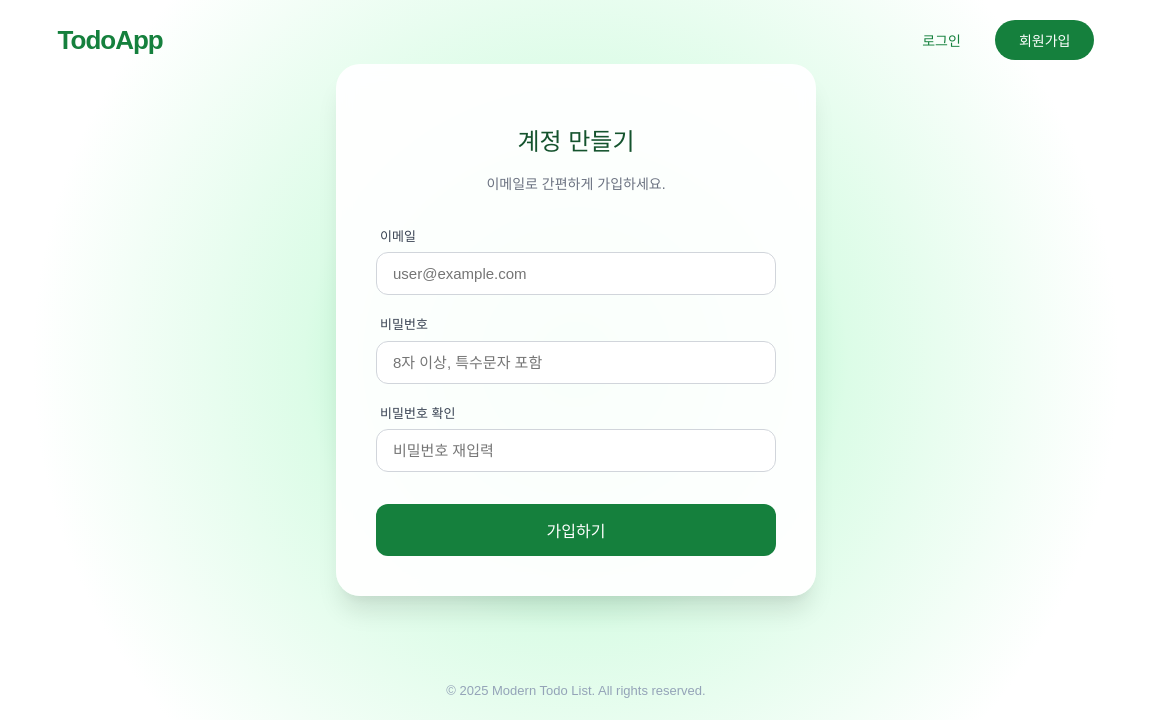
SignupPage 테스트 › 유효하지 않은 이메일 입력 시 에러 메시지가 나와야 한다
// 잘못된 이메일 입력
In the field with placeholder "user@example.com": [576, 274] box [376, 252, 776, 296], type "wrong-email"
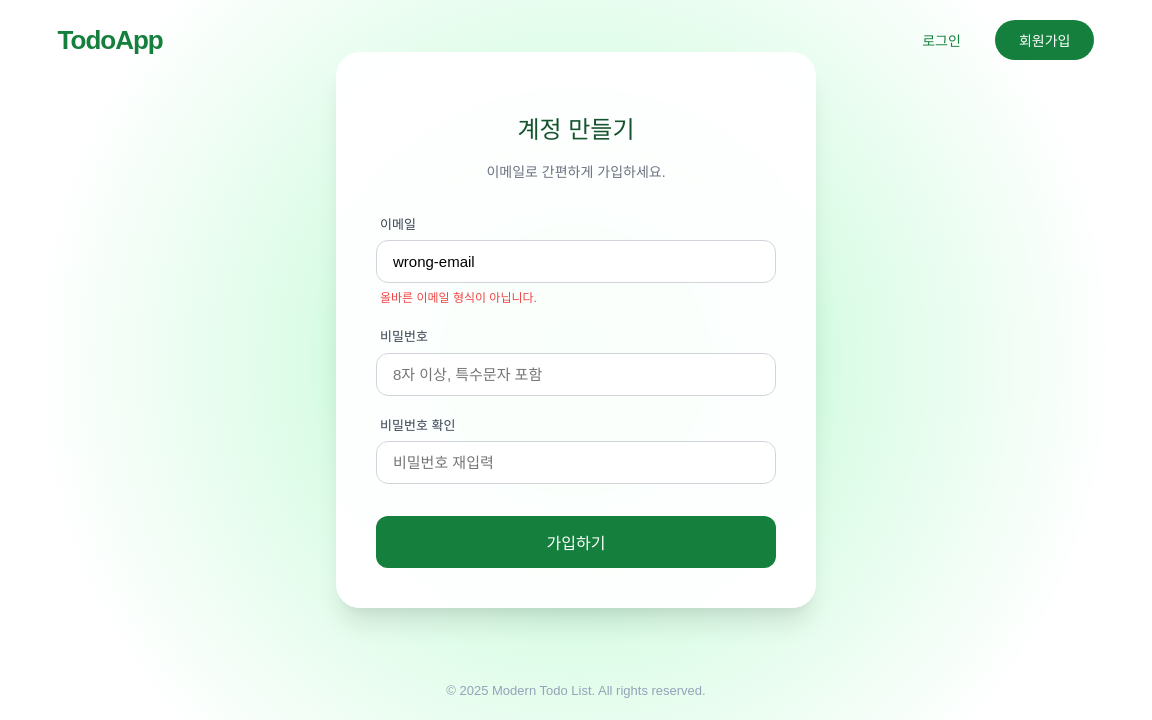
Now the text "올바른 이메일 형식이 아닙니다." is shown, box [380, 292, 537, 306]
